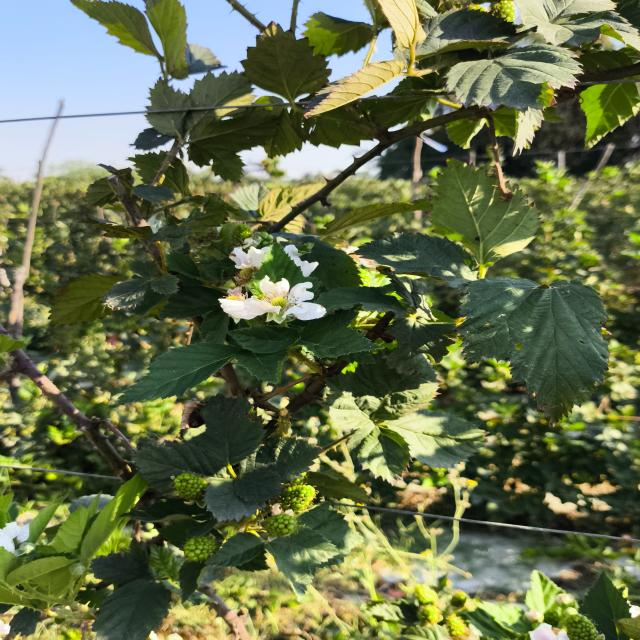flor: (219, 275, 326, 324), (284, 245, 318, 277), (230, 247, 267, 270)
verde: (279, 480, 316, 513), (183, 536, 218, 562), (174, 473, 207, 500), (263, 513, 298, 537)
